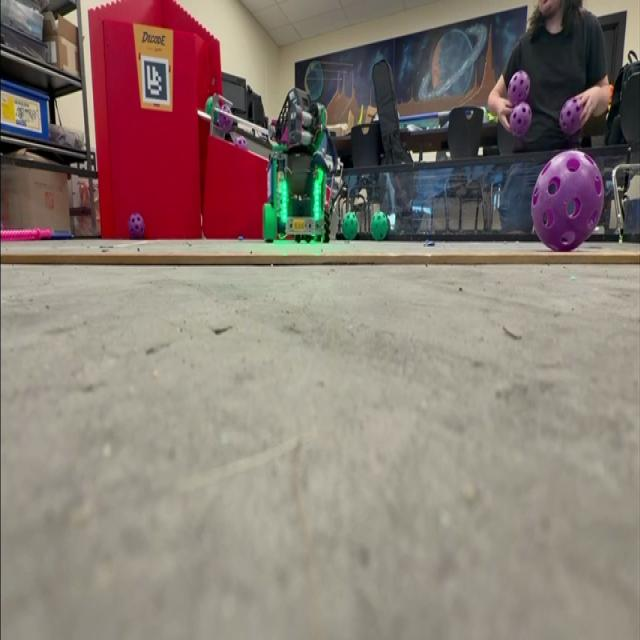artifact_green: (264, 203, 278, 242), (371, 211, 388, 241), (217, 103, 233, 133), (343, 212, 358, 241), (206, 96, 212, 115)
artifact_purple: (532, 151, 604, 251), (560, 98, 581, 137), (508, 70, 530, 105), (510, 103, 532, 138), (218, 103, 233, 133), (129, 212, 145, 238), (234, 135, 247, 150)
